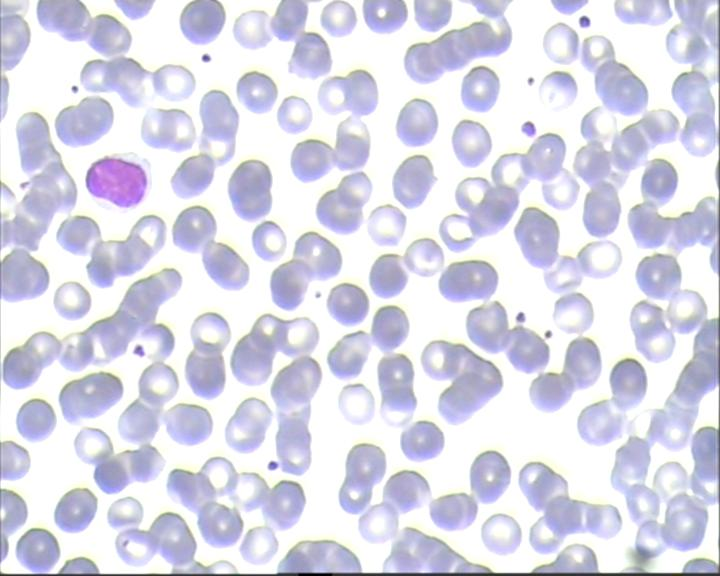lymp: (81, 144, 160, 219)
